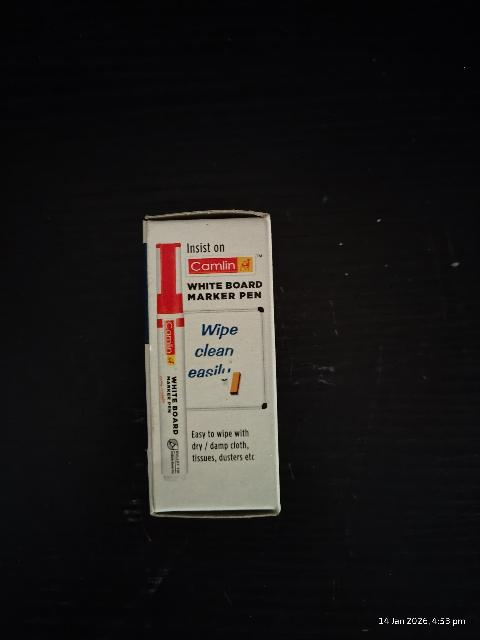camlin marker ink: (136, 211, 289, 515)
